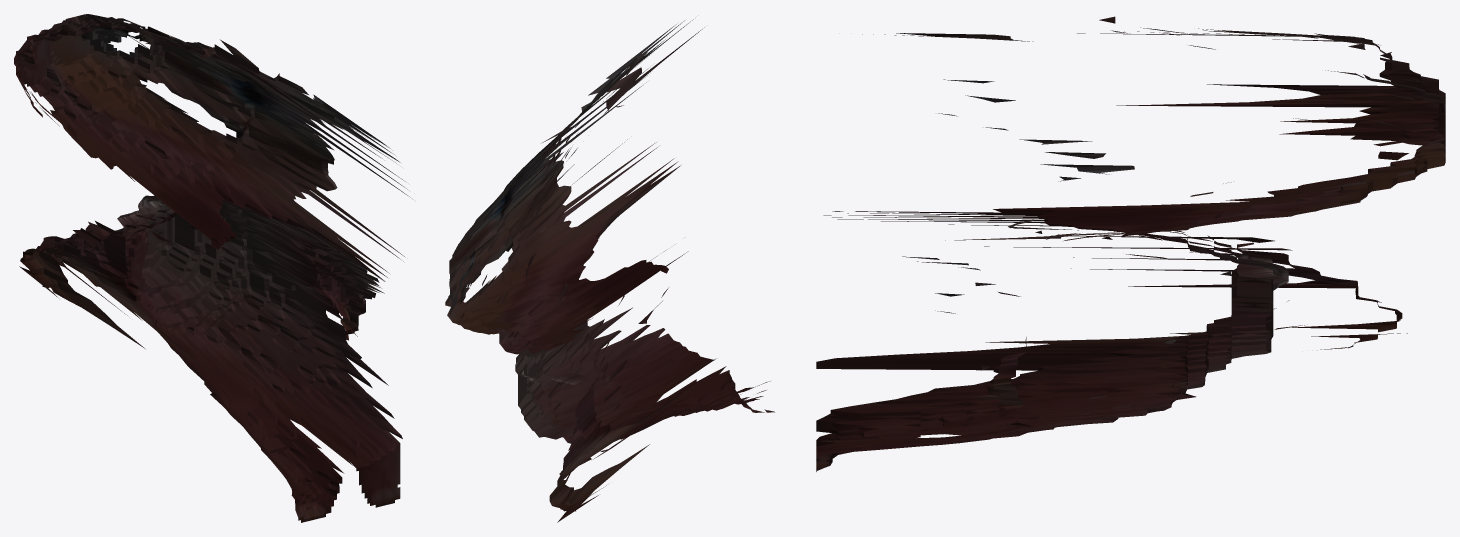
The model's file is frame_00101.glb.
3 views of the same model, side by side, from view 1: azimuth 30°, elevation 25°; view 2: azimuth 150°, elevation 25°; view 3: azimuth 270°, elevation 25° (orthographic). The views are drawn at different scales.
Parts seen in each view (by area): view 1: geometry_0; view 2: geometry_0; view 3: geometry_0.
Part boxes in pixels (x1,y1,x2,y2): geometry_0: [14, 14, 410, 522]; geometry_0: [445, 19, 774, 522]; geometry_0: [816, 16, 1445, 471].
Bounding box in the file's own units: 0.0634 × 0.1335 × 0.16.
1 material, 1 textured.
